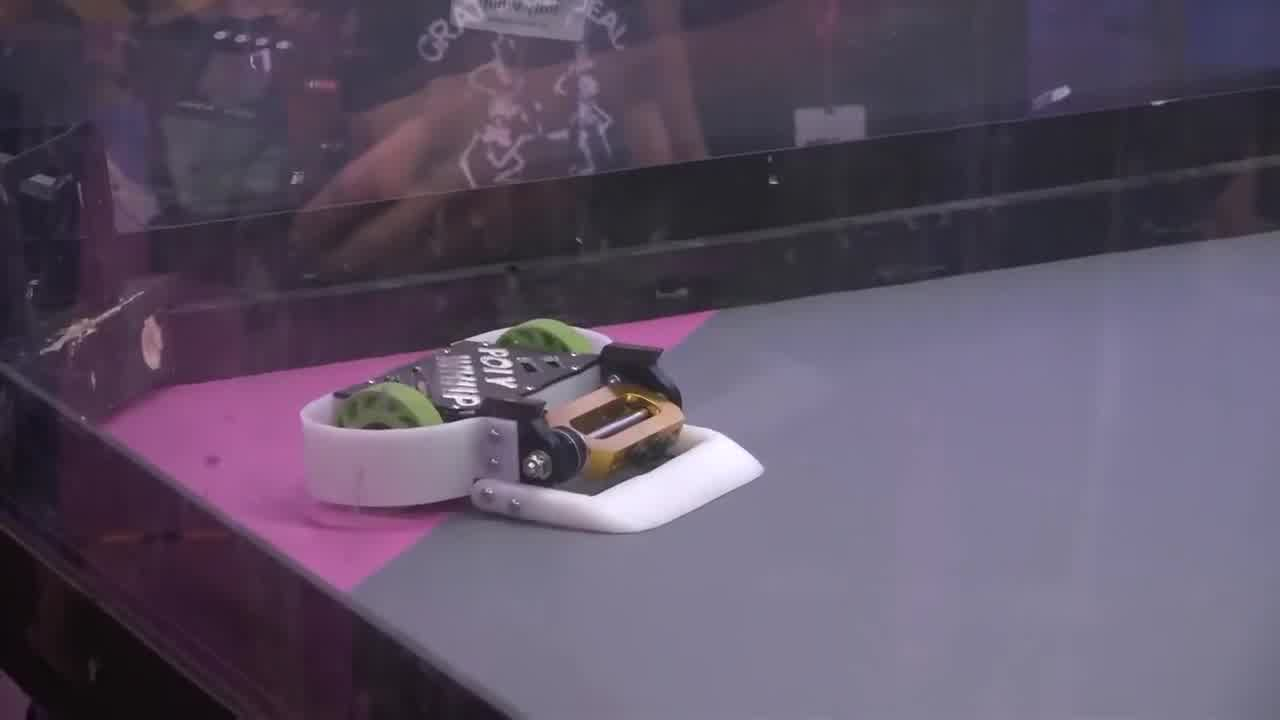combatbot: (294, 315, 772, 534)
